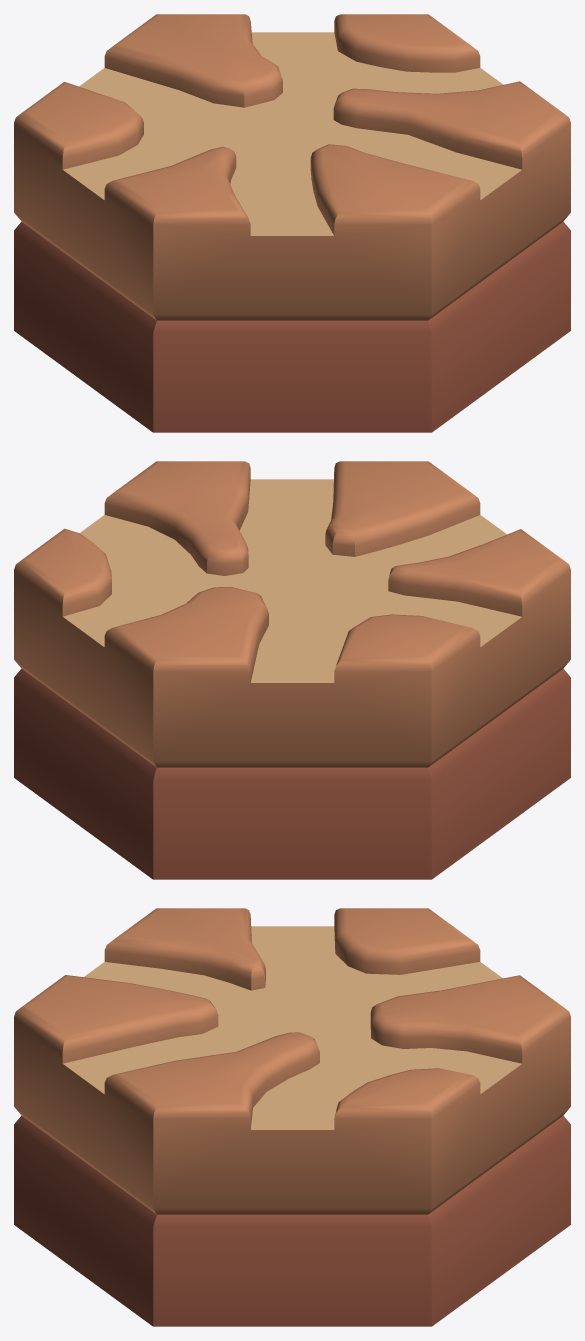
Rendered from hex_rock_roadM_detail.glb.
The picture shows the model from 3 angles, top to bottom: view 1: azimuth 30°, elevation 25°; view 2: azimuth 150°, elevation 25°; view 3: azimuth 270°, elevation 25°; orthographic projection.
Visible parts, largest first — view 1: hex_rock_roadM_detail; view 2: hex_rock_roadM_detail; view 3: hex_rock_roadM_detail.
Part boxes in pixels (x1,y1,x2,y2): hex_rock_roadM_detail: (14, 14, 570, 432); hex_rock_roadM_detail: (14, 461, 570, 879); hex_rock_roadM_detail: (14, 908, 570, 1326).
Size of the model in its own units: 2.4 by 1.2 by 2.77.
